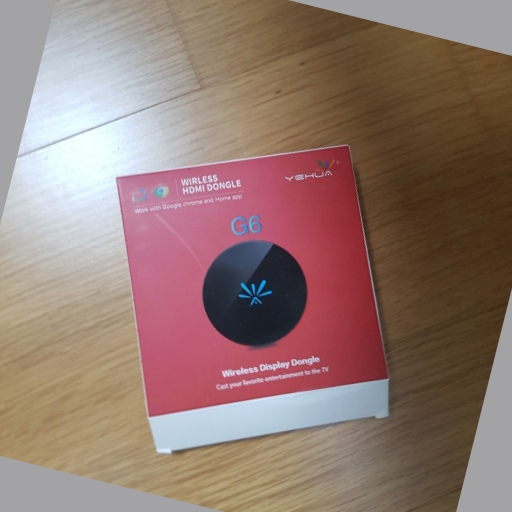Paper_0: (110, 143, 398, 458)
